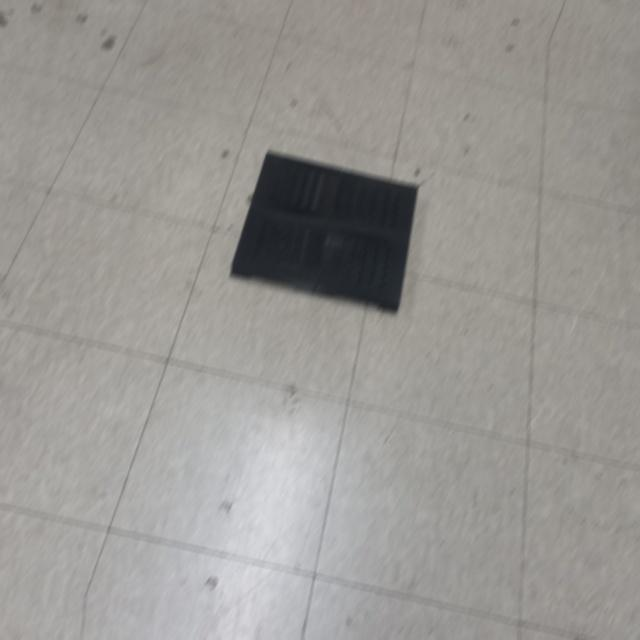pallet: (226, 142, 432, 320)
